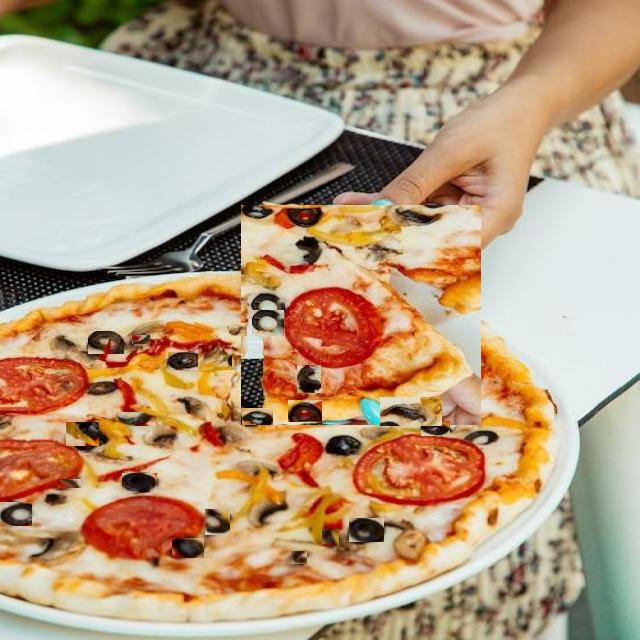basil: (380, 397, 442, 426), (371, 498, 420, 530), (198, 345, 232, 370), (66, 422, 99, 446), (229, 323, 247, 336)
olive: (88, 332, 124, 356), (349, 518, 384, 542), (324, 435, 362, 457), (252, 310, 284, 336), (0, 502, 32, 526), (288, 400, 322, 422), (72, 430, 106, 451), (122, 473, 157, 493), (297, 365, 321, 393), (205, 509, 230, 535), (172, 538, 204, 558), (168, 352, 202, 370), (116, 412, 156, 426), (462, 430, 498, 445), (242, 408, 273, 425), (421, 421, 450, 436), (42, 493, 69, 505), (322, 529, 339, 546), (57, 480, 81, 490), (291, 551, 307, 564), (132, 336, 150, 346)
pizza: (0, 272, 553, 622), (241, 205, 481, 425)
